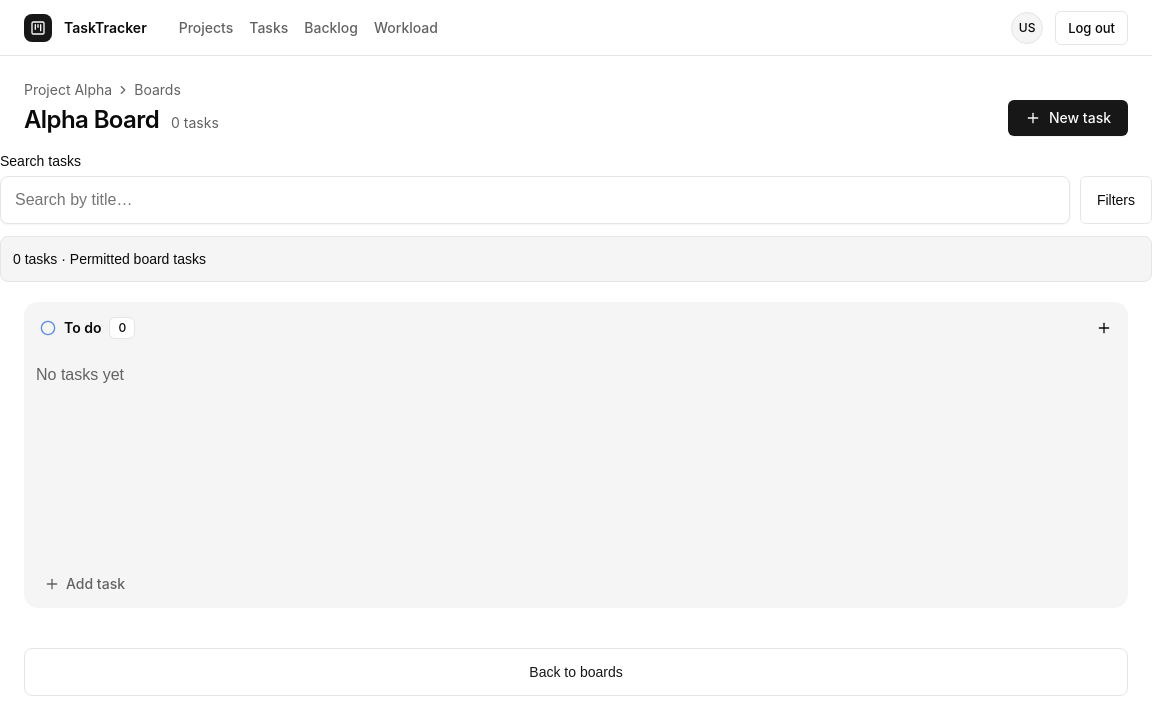
Contextual Navbar Navigation (Tasks & Backlog of current project) › updates navbar Backlog link to current project when viewing Alpha board and clicking it opens Alpha backlog
Expected: the heading "Alpha Board" is shown, [24,104,159,136]
Click Backlog link
Click the link with test id "nav-backlog-link": {"x": 331, "y": 28} [304,18,358,38]
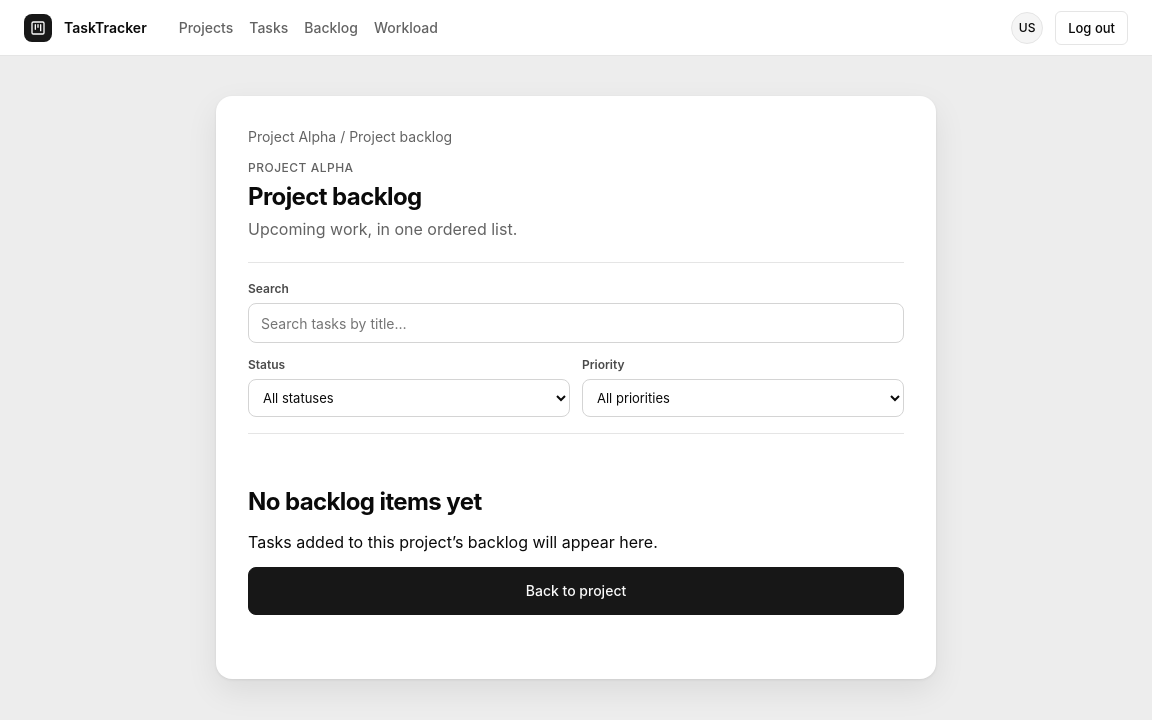
Now the element with test id "project-backlog-page" is shown
